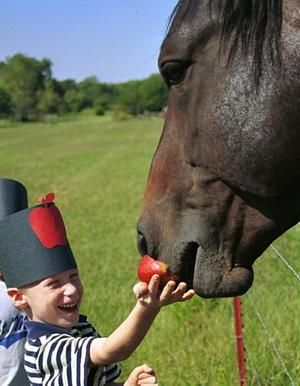person: (2, 201, 197, 386)
